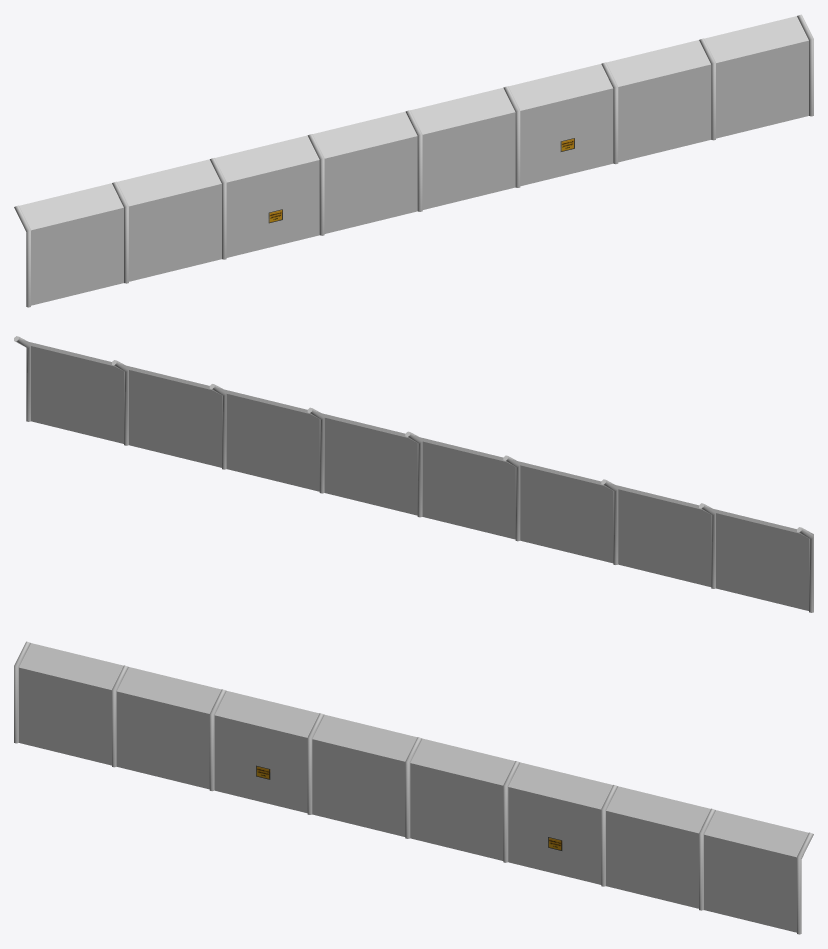
Rendered from pbfenc01.FBX.
3 views of the same model, one above another, from view 1: azimuth 30°, elevation 25°; view 2: azimuth 150°, elevation 25°; view 3: azimuth 330°, elevation 25° (orthographic).
Visible parts, largest first — view 1: pbfenc01__2; view 2: pbfenc01__2; view 3: pbfenc01__2.
Part boxes in pixels (bbox=[...]): pbfenc01__2: bbox=[14, 14, 813, 307]; pbfenc01__2: bbox=[14, 336, 813, 612]; pbfenc01__2: bbox=[14, 641, 813, 934].
Size of what is drawn, in the model's own units: 32.2 by 1.04 by 3.61.
